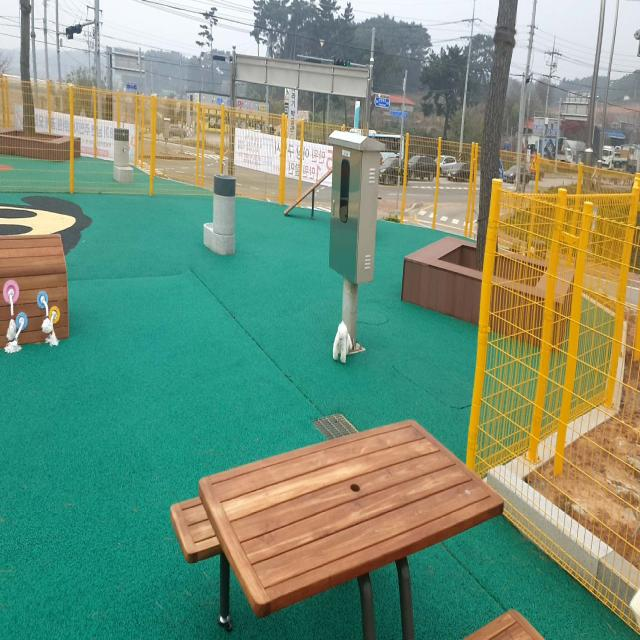Dog: (332, 321, 353, 363)
